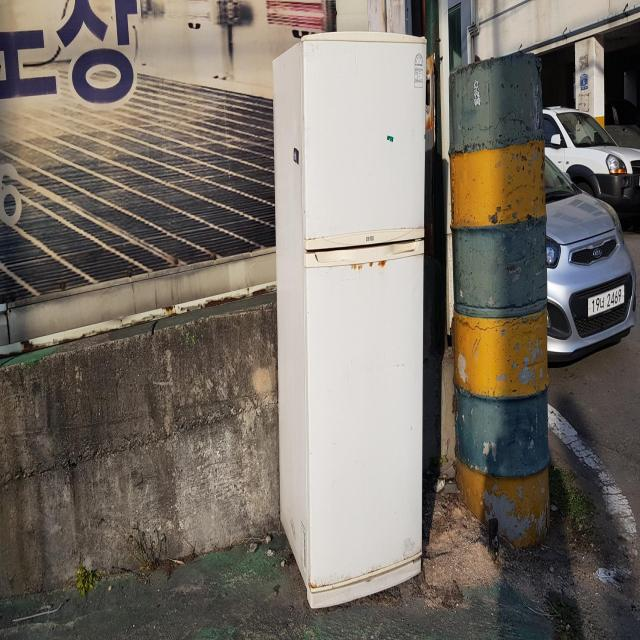refrigerator: (266, 21, 430, 614)
